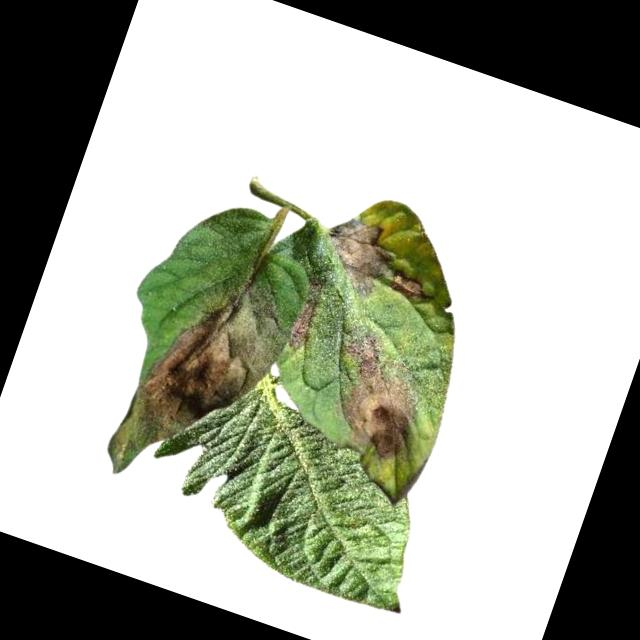Late_blight: (100, 240, 301, 502), (312, 320, 441, 470), (310, 204, 450, 320), (283, 294, 320, 357)
healthy: (126, 365, 452, 619)
